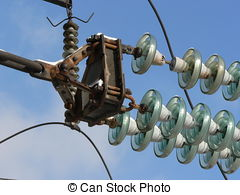gap: (131, 32, 201, 90)
isolator: (107, 32, 240, 175)
